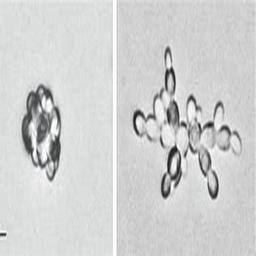Yeast: (136, 47, 243, 199), (22, 87, 64, 179)
